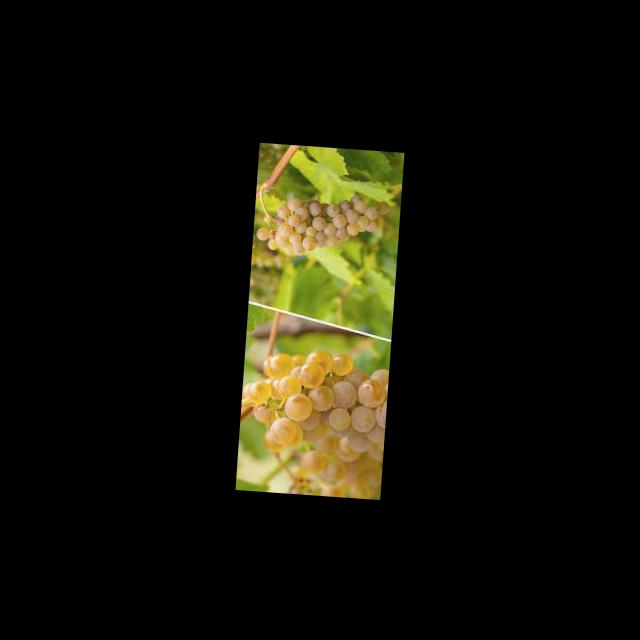grape: (254, 188, 390, 260)
